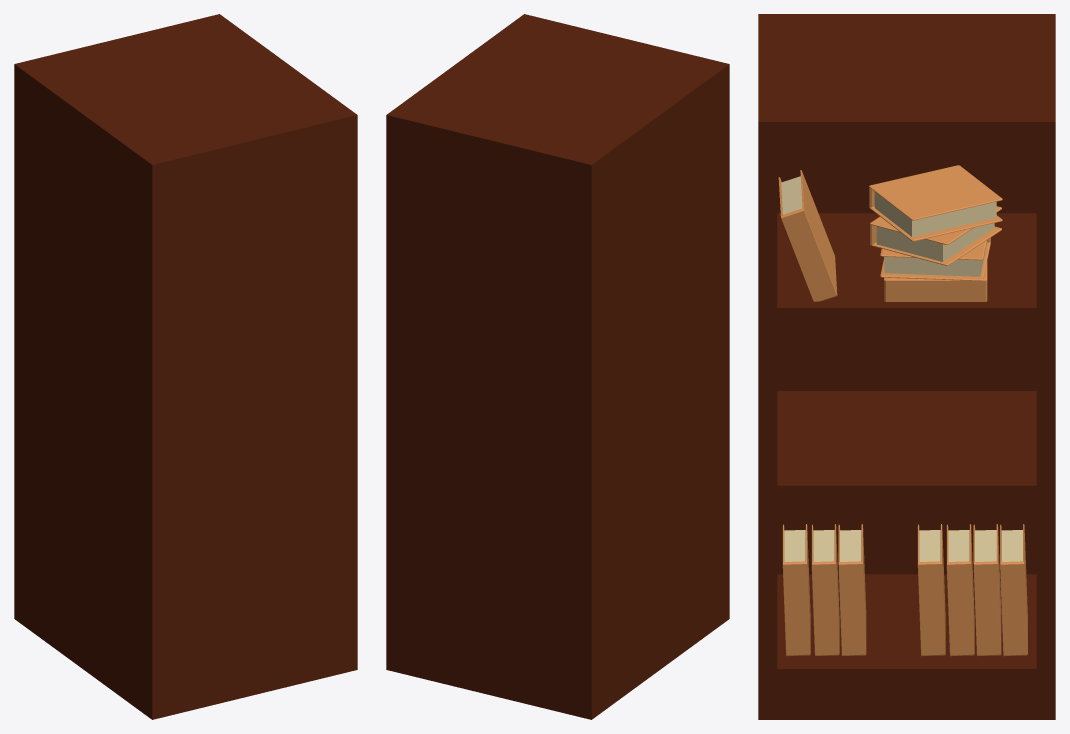
The model's file is ShelfWithBooks.fbx.
3 views of the same model, side by side, from view 1: azimuth 30°, elevation 25°; view 2: azimuth 150°, elevation 25°; view 3: azimuth 270°, elevation 25° (orthographic). The views are drawn at different scales.
Parts seen in each view (by area): view 1: Book.022; view 2: Book.022; view 3: Book.022.
Boxes of the visible parts, x1,y1,x2,y2 form: Book.022: (14, 14, 357, 719); Book.022: (386, 14, 729, 719); Book.022: (758, 14, 1055, 719).
Size of the model in its own units: 1.27 by 3.19 by 1.44.
